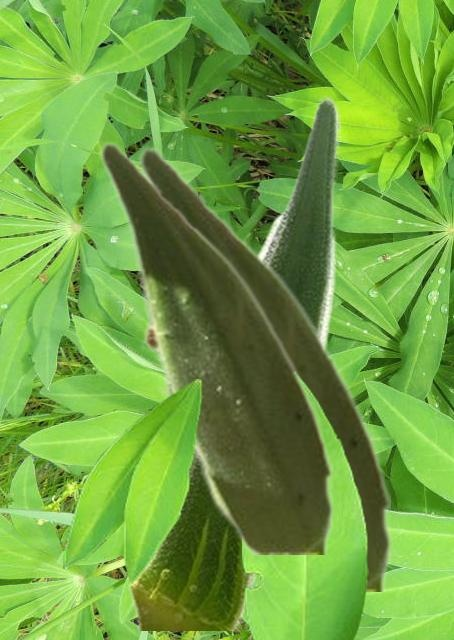okra: (126, 94, 339, 629), (137, 144, 389, 590), (98, 139, 331, 553)
